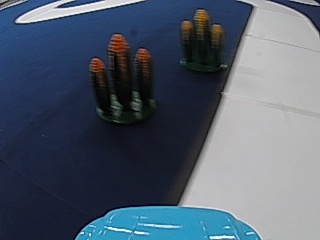corn: (89, 35, 154, 126), (178, 6, 225, 72)
